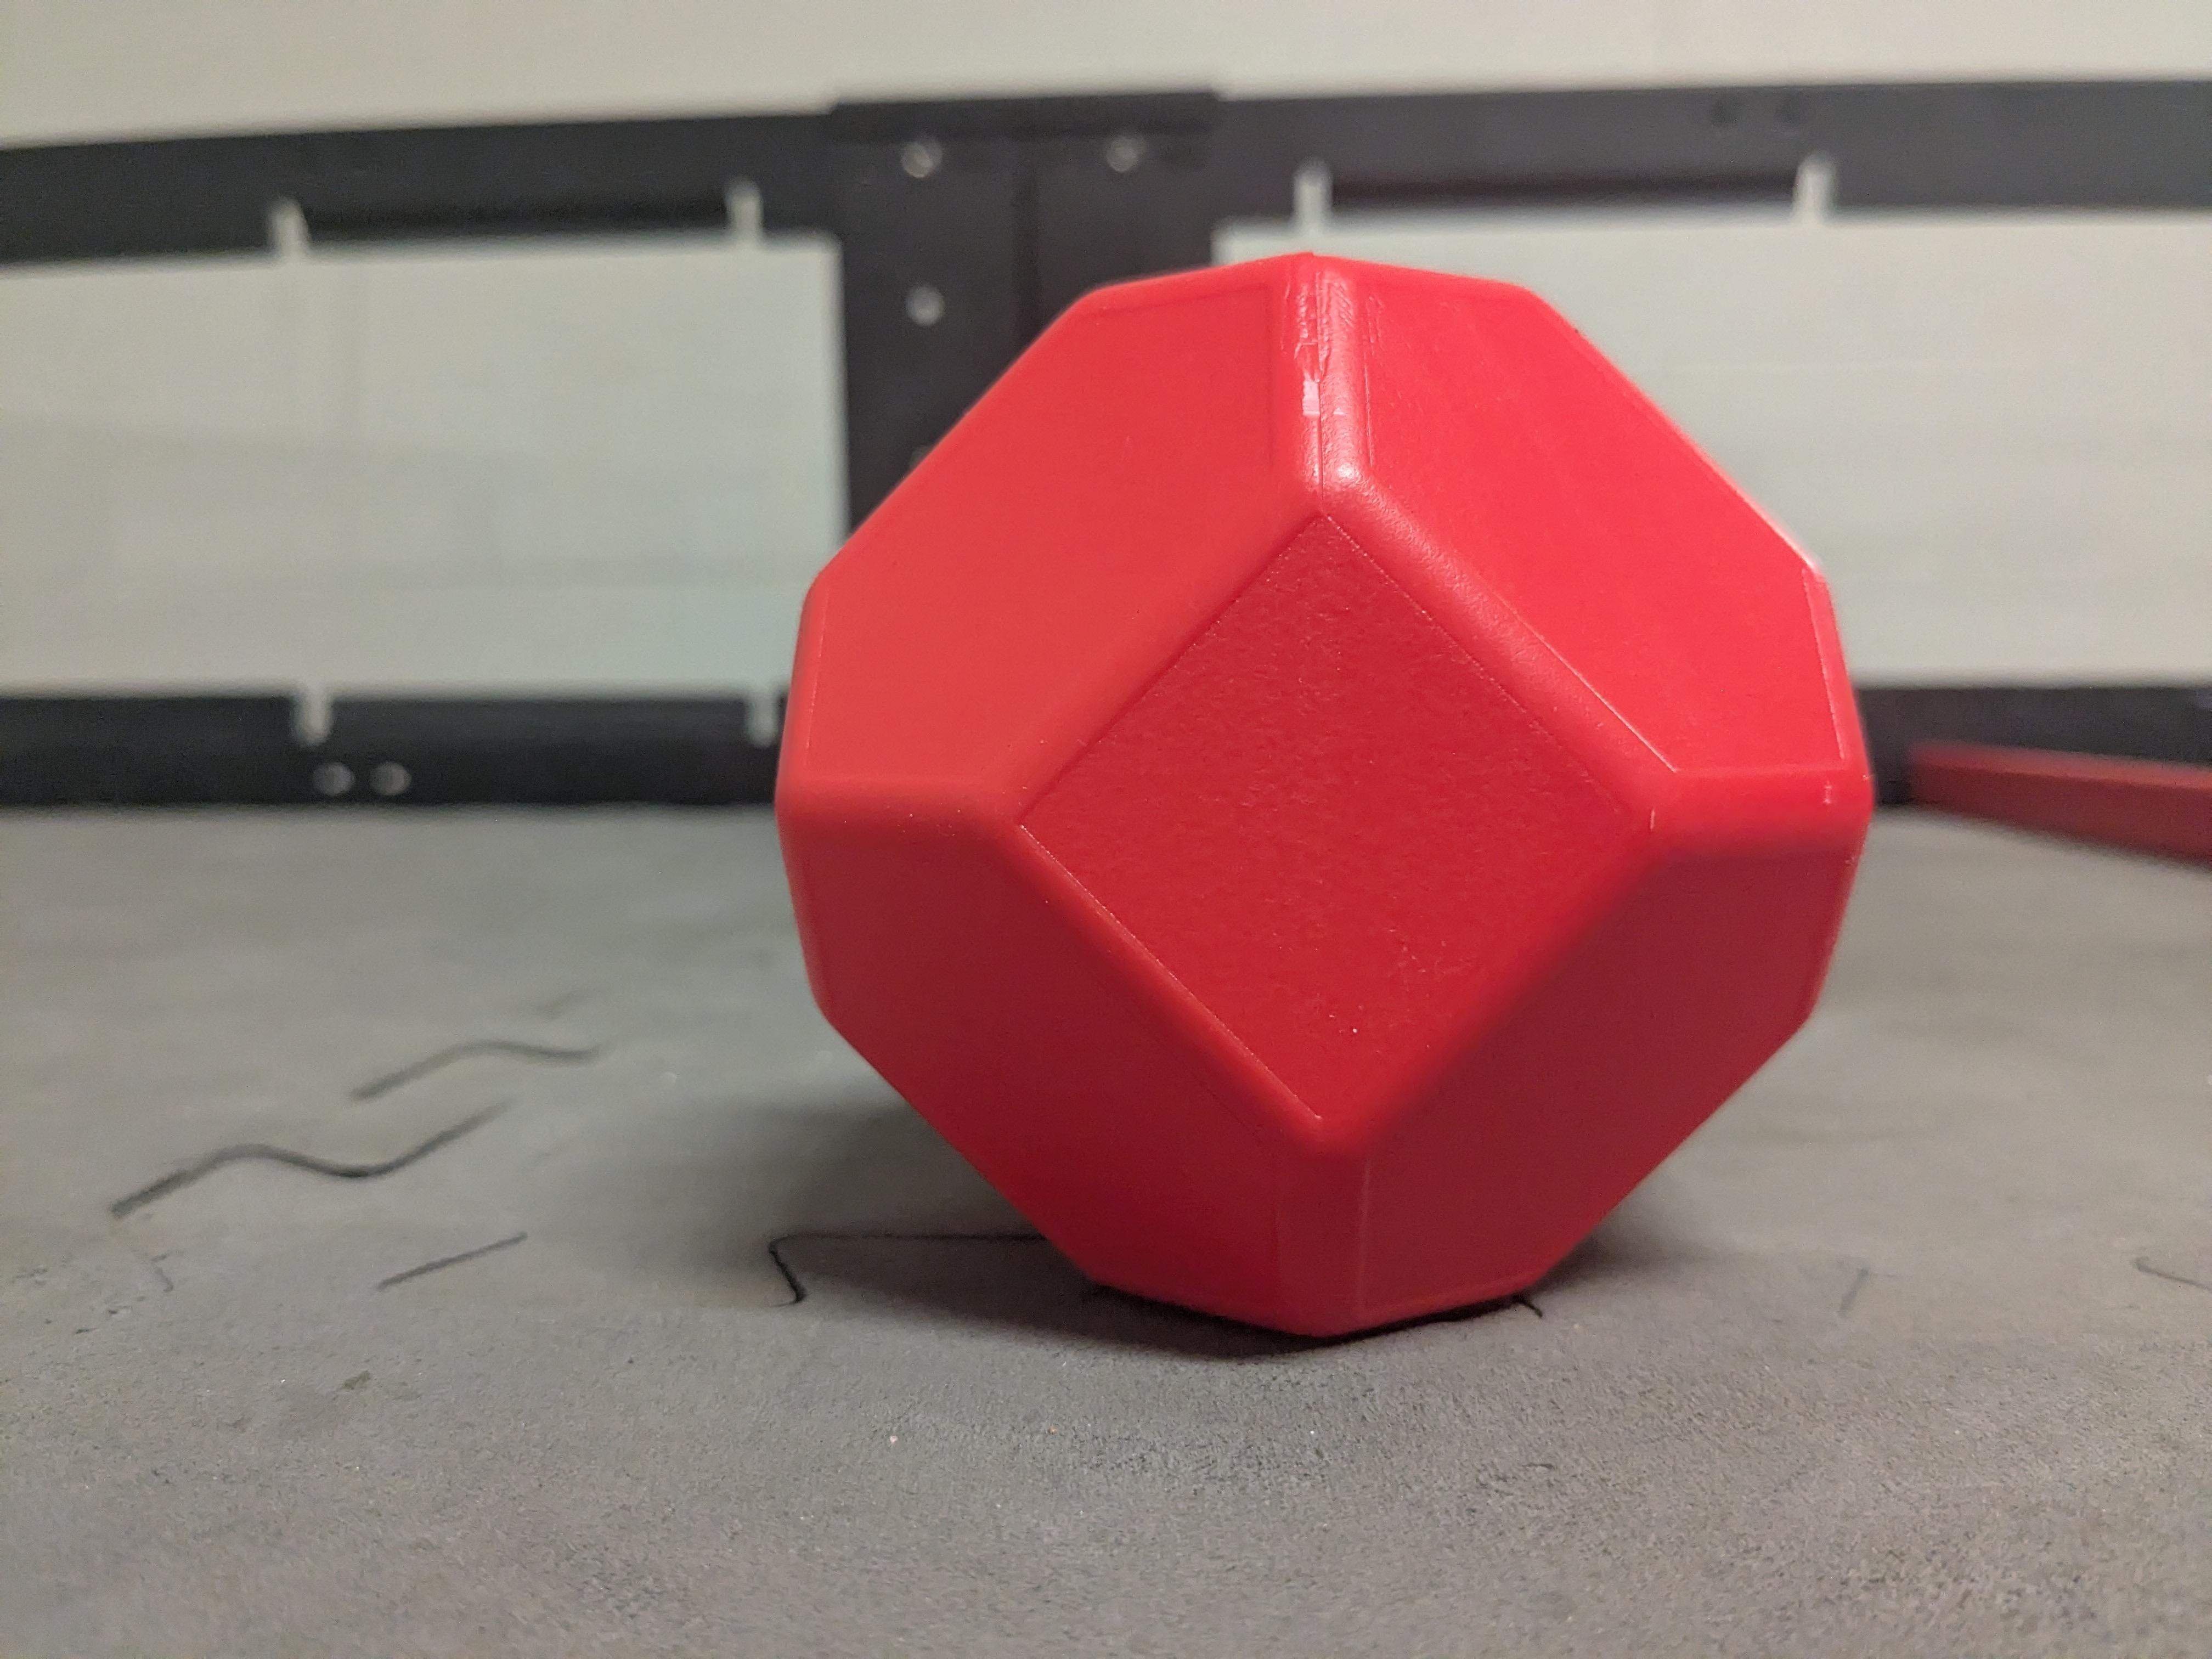Vex-Pieces-RED: (777, 256, 1871, 1333)
